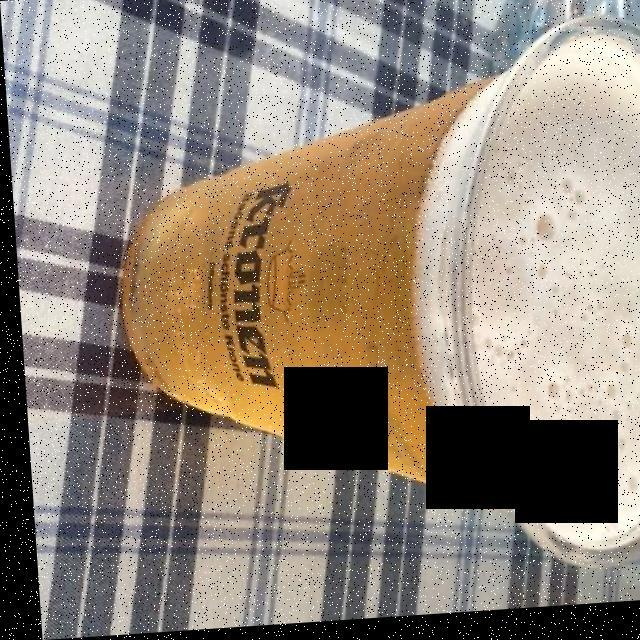beer: (462, 46, 640, 550)
